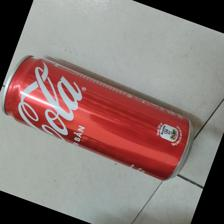Coca: (3, 55, 192, 181)
